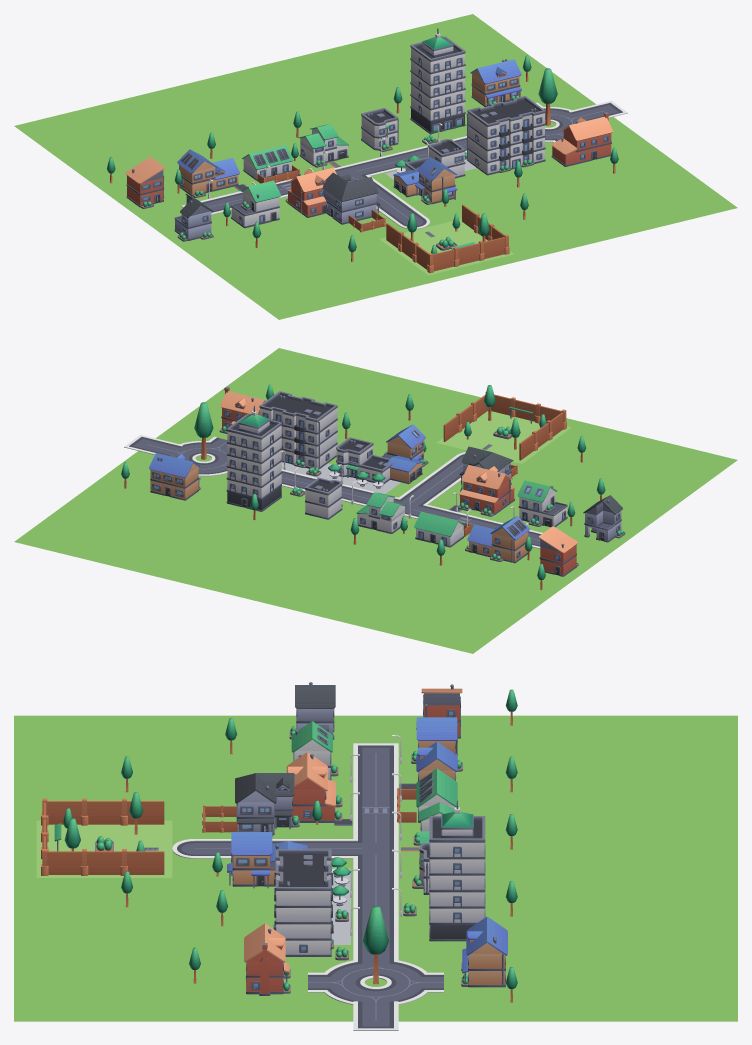
Rendered from SimonsStreet.glb.
3 renders of one model, top to bottom at view 1: azimuth 30°, elevation 25°; view 2: azimuth 150°, elevation 25°; view 3: azimuth 270°, elevation 25°, orthographic. The views are drawn at different scales.
Parts seen in each view (by area): view 1: grass, school, tower, fence-3x3, building-type-d, grey-house, home, big-blue-house, building-type-e, park-lawn, dark-house, building-type-k (+9 smaller); view 2: grass, tower, school, fence-3x3, park-lawn, garage-house, home, building-type-e, big-blue-house, dark-house, cafe, road-roundabout (+10 smaller); view 3: grass, tower, road-straight (×8), school, fence-3x3, road-roundabout, park-lawn, grey-house, building-type-e, building-type-d, big-blue-house, garage-house (+14 smaller).
Part boxes in pixels (<box>): grass: <box>14,14,737,319</box>; school: <box>466,96,545,175</box>; tower: <box>410,28,465,134</box>; fence-3x3: <box>386,204,509,273</box>; building-type-d: <box>551,112,613,166</box>; grey-house: <box>322,172,380,224</box>; home: <box>177,149,239,197</box>; big-blue-house: <box>393,157,457,204</box>; building-type-e: <box>470,59,521,106</box>; park-lawn: <box>379,219,513,275</box>; dark-house: <box>231,180,280,228</box>; building-type-k: <box>125,157,164,208</box>; grass: <box>14,348,737,653</box>; tower: <box>226,405,281,511</box>; school: <box>259,391,337,469</box>; fence-3x3: <box>443,392,566,460</box>; park-lawn: <box>436,411,571,463</box>; garage-house: <box>458,465,514,516</box>; home: <box>465,516,530,563</box>; building-type-e: <box>149,453,200,500</box>; big-blue-house: <box>381,424,428,484</box>; dark-house: <box>517,480,567,527</box>; cafe: <box>336,437,393,484</box>; road-roundabout: <box>153,436,227,476</box>; grass: <box>14,715,737,1021</box>; tower: <box>429,800,485,941</box>; road-straight (×8): <box>308,762,398,934</box>; school: <box>273,849,333,956</box>; fence-3x3: <box>41,798,164,875</box>; road-roundabout: <box>308,953,443,1011</box>; park-lawn: <box>36,820,172,877</box>; grey-house: <box>235,773,299,836</box>; building-type-e: <box>461,916,507,987</box>; building-type-d: <box>244,923,290,995</box>; big-blue-house: <box>227,832,307,888</box>; garage-house: <box>286,752,342,822</box>.
Bounding box in the file's own units: 99 × 18.92 × 96.
Materials: 9 (6 with a texture image).
